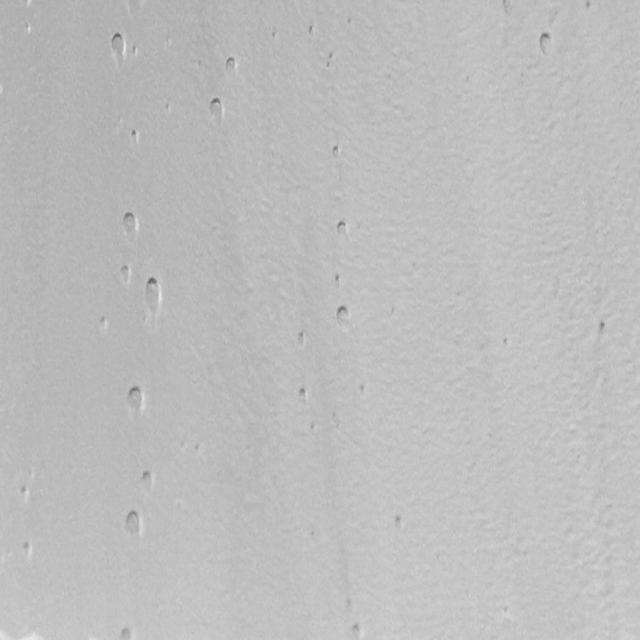pin holes: (141, 274, 166, 317), (124, 385, 148, 418), (121, 508, 145, 540), (107, 32, 129, 64), (119, 210, 141, 241), (206, 97, 227, 128), (535, 31, 557, 59), (333, 302, 354, 328), (138, 468, 158, 493), (221, 54, 241, 77), (332, 217, 352, 239), (593, 317, 612, 340), (118, 262, 136, 286), (18, 538, 36, 562), (347, 621, 366, 640), (500, 0, 518, 18), (295, 330, 311, 350), (393, 513, 409, 533), (297, 387, 312, 406), (118, 625, 137, 640), (18, 484, 32, 504), (582, 0, 599, 15), (98, 313, 111, 332), (330, 144, 345, 160), (325, 51, 338, 69), (305, 22, 319, 38), (130, 128, 142, 146), (332, 272, 345, 288), (501, 335, 514, 351), (358, 382, 370, 397), (128, 45, 140, 60), (308, 420, 320, 434), (344, 594, 352, 614), (269, 27, 280, 41), (23, 22, 33, 37), (162, 101, 172, 115), (195, 440, 202, 459), (22, 0, 34, 10)
